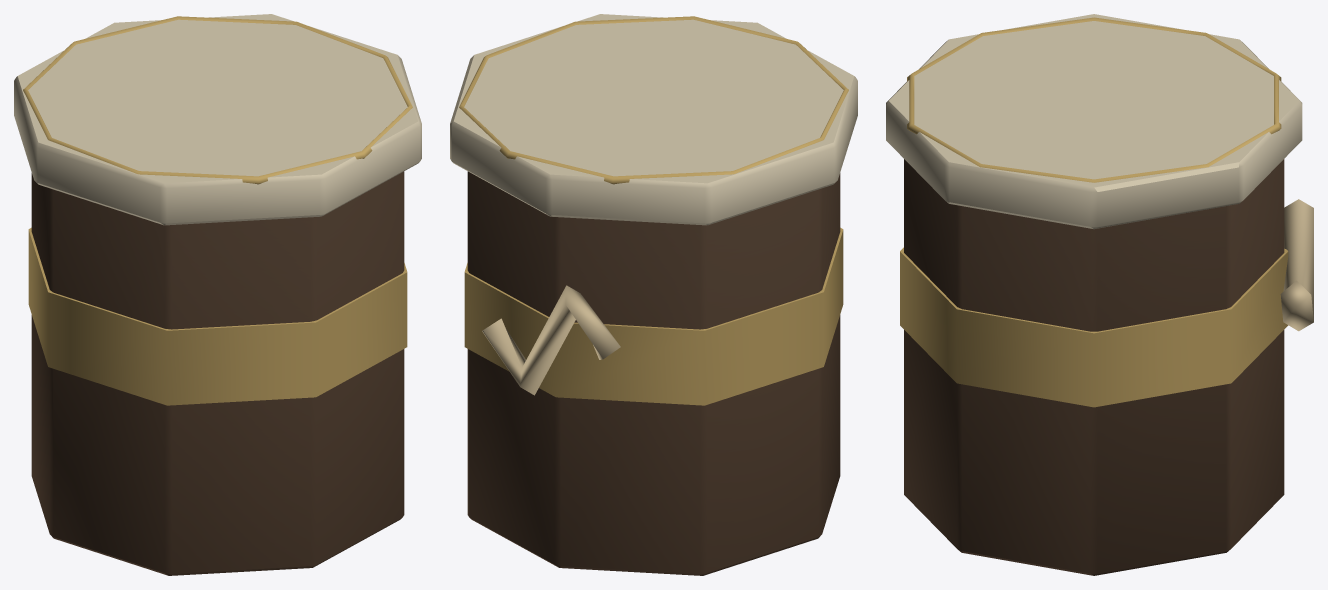
Rendered from bait_premium_low.glb.
3 views of the same model, side by side, from view 1: azimuth 30°, elevation 25°; view 2: azimuth 150°, elevation 25°; view 3: azimuth 270°, elevation 25° (orthographic).
Bounding box in the file's own units: 0.1629 × 0.172 × 0.1674.
